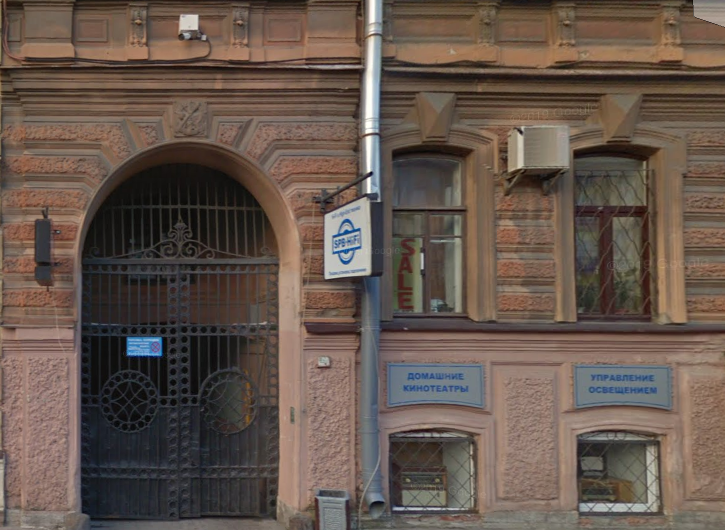arch: (78, 134, 301, 524)
cantilever: (311, 165, 385, 281), (31, 206, 62, 291)
signboard: (572, 365, 671, 411), (388, 365, 483, 409)
window: (381, 145, 469, 322), (573, 137, 654, 323), (578, 426, 667, 517), (390, 427, 481, 514)
